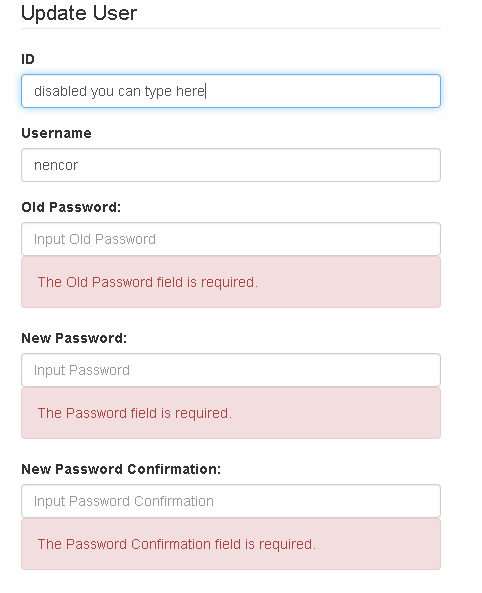error_message: (37, 536, 318, 553), (36, 273, 260, 291), (35, 404, 231, 419)
